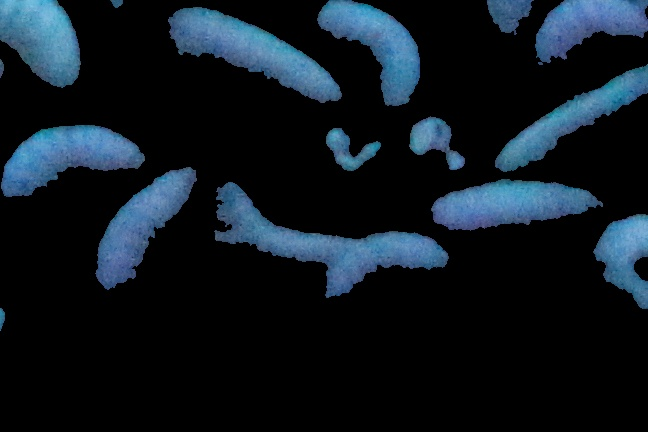larvae: (167, 7, 341, 106), (493, 69, 648, 172), (93, 164, 198, 305), (1, 128, 148, 210), (320, 1, 422, 108), (432, 176, 605, 238), (215, 181, 343, 261), (326, 231, 452, 298), (532, 1, 648, 69), (1, 1, 83, 92), (587, 213, 648, 304)
